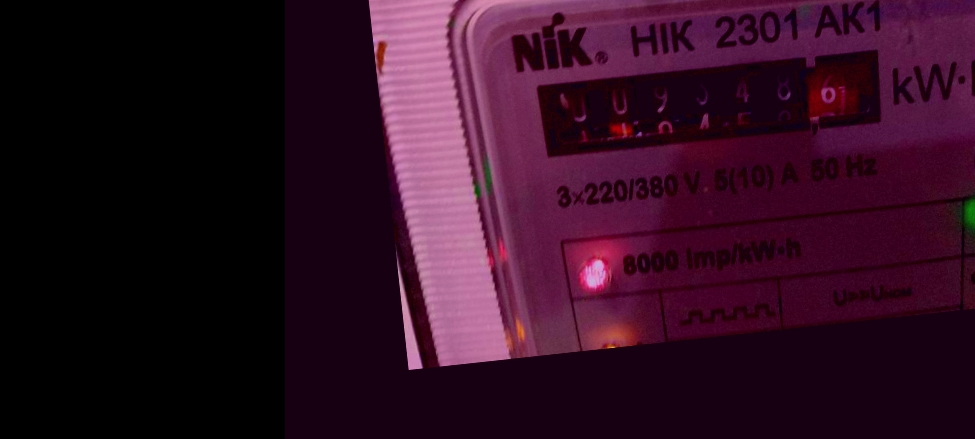0: (607, 81, 632, 119), (567, 87, 590, 124)
3: (689, 73, 714, 107)
4: (729, 69, 754, 108)
6: (816, 69, 842, 105)
8: (772, 66, 795, 102)
9: (650, 78, 672, 113)
screen: (513, 32, 906, 175)
